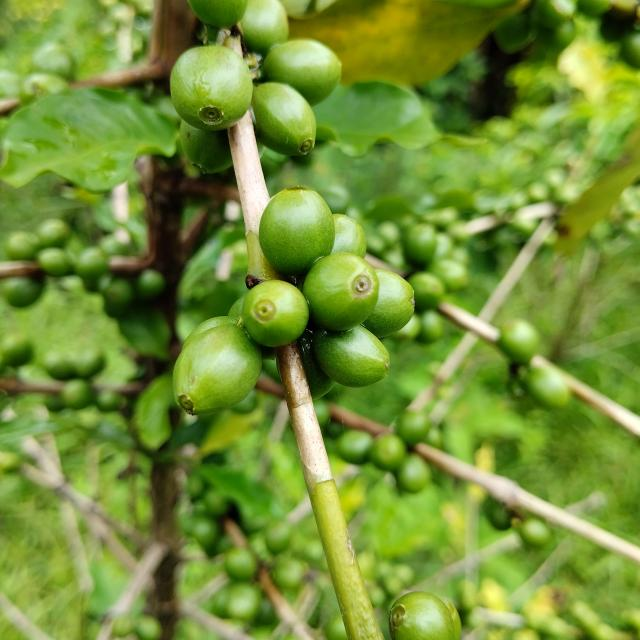Unripe: (172, 324, 262, 415), (170, 44, 253, 130), (259, 186, 335, 275), (302, 252, 380, 331), (263, 38, 342, 104), (313, 325, 390, 388), (251, 81, 316, 155), (241, 280, 309, 347), (362, 269, 415, 338), (389, 593, 455, 640), (297, 329, 335, 400), (240, 0, 289, 54), (187, 0, 247, 27), (331, 214, 366, 258), (187, 316, 237, 338), (228, 295, 246, 320)
